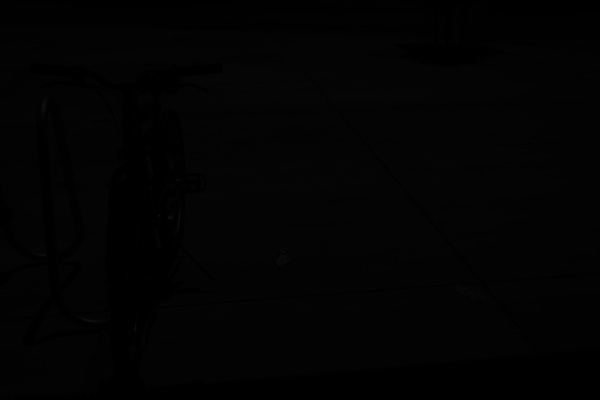bicycle: (16, 40, 237, 400)
